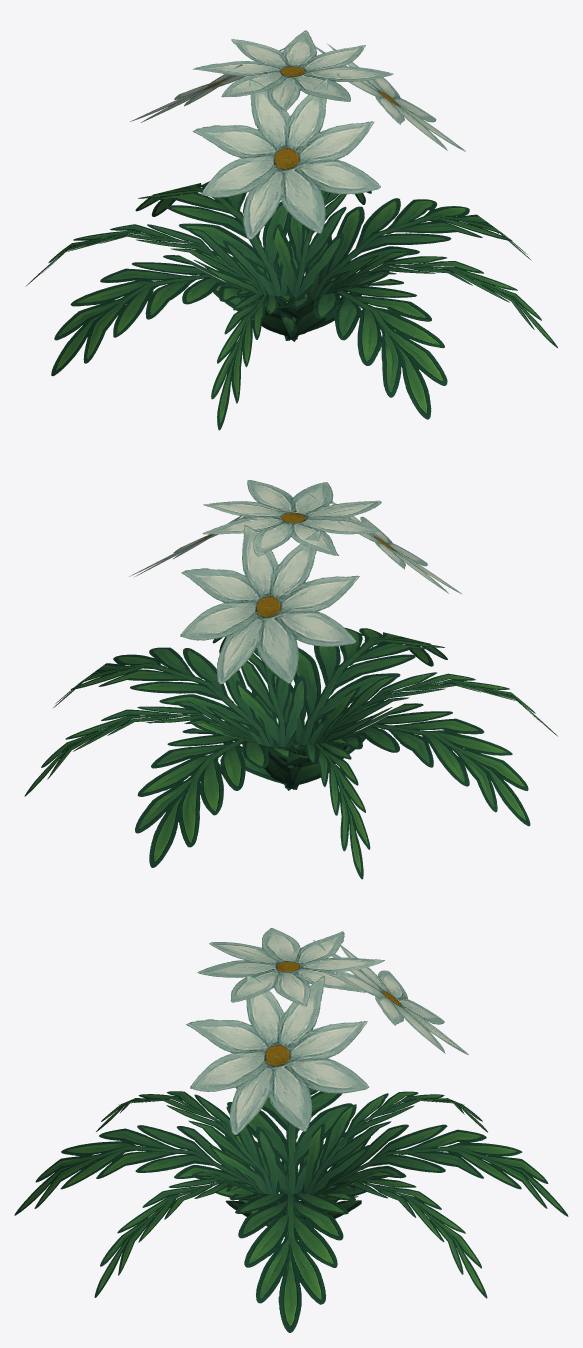
File: plant03.fbx
3 renders of one model, top to bottom at view 1: azimuth 30°, elevation 25°; view 2: azimuth 150°, elevation 25°; view 3: azimuth 270°, elevation 25°, orthographic.
Parts seen in each view (by area): view 1: Object002; view 2: Object002; view 3: Object002.
Part boxes in pixels (bbox=[...]): Object002: bbox=[25, 30, 557, 430]; Object002: bbox=[24, 480, 557, 879]; Object002: bbox=[14, 928, 568, 1332].
Bounding box in the file's own units: 42.01 × 24.76 × 42.01.
Materials: 1 (1 with a texture image).
